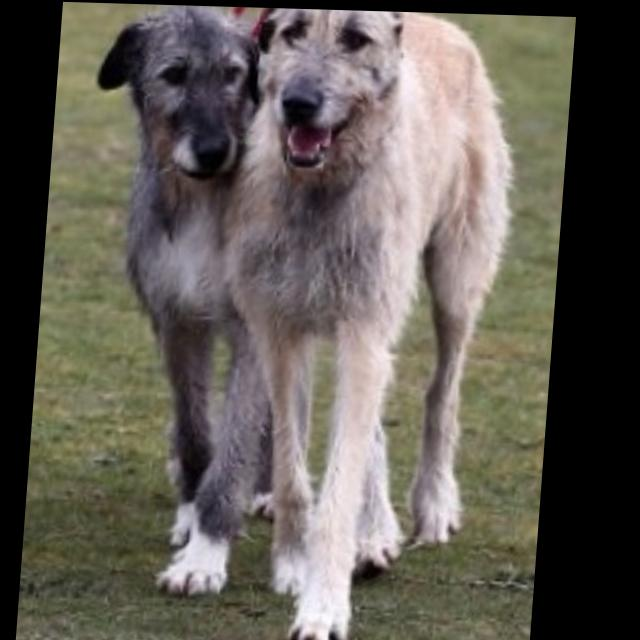other_dog_breed: (212, 7, 523, 640), (67, 4, 344, 602)
